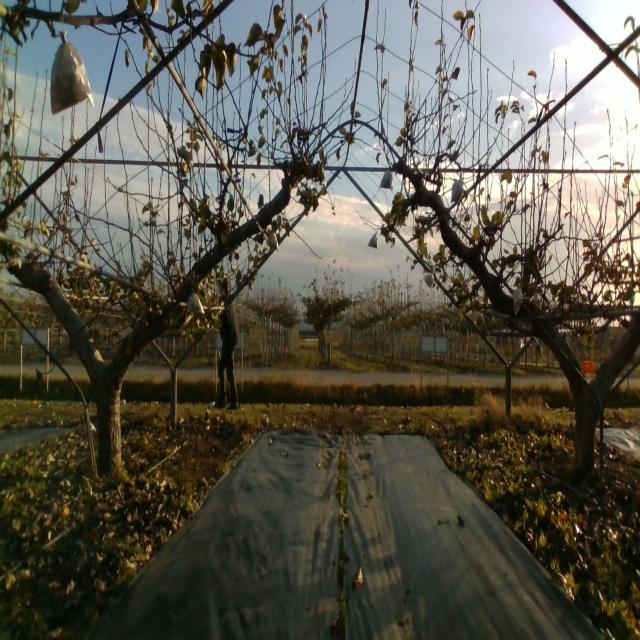pearbags: (50, 29, 94, 116), (215, 278, 240, 412), (188, 291, 206, 314), (512, 286, 524, 315), (379, 167, 393, 190), (451, 177, 463, 202), (266, 232, 280, 250), (423, 272, 435, 291), (368, 231, 378, 250)
